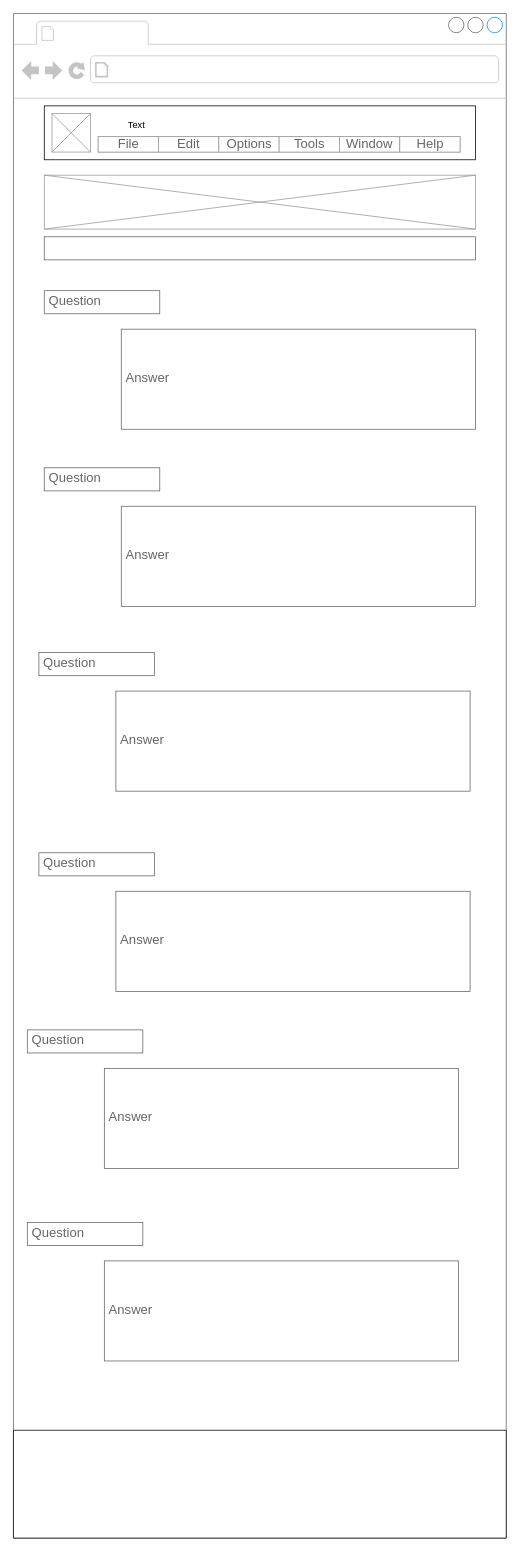
The diagram is 520 pixels wide and 1552 high, and some of its shapes have lost their labels. Here are the shapes that lost their labels. From the top down, the centre of each, then its label:
the point at 101,32: Page 1
the point at 209,69: https://www.draw.io
the point at 259,248: FAQs
